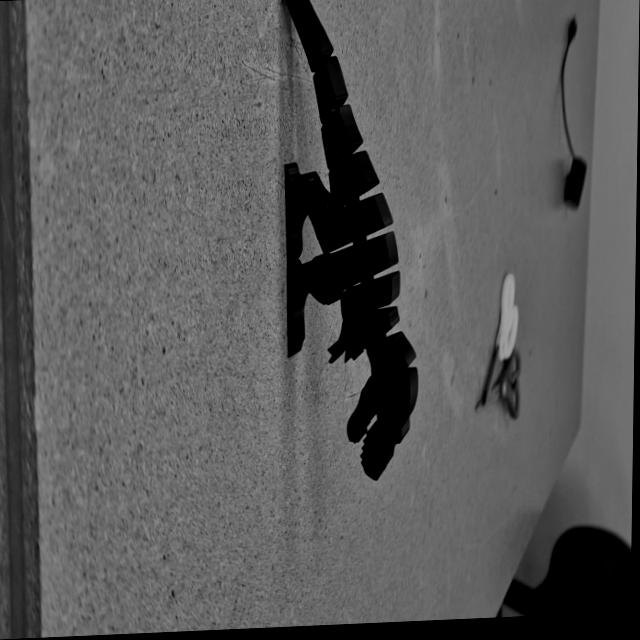dino: (273, 0, 426, 488)
